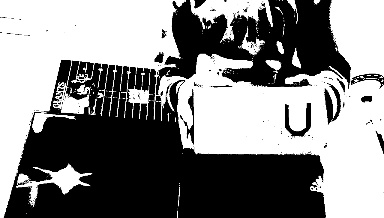U: (280, 101, 314, 136)
